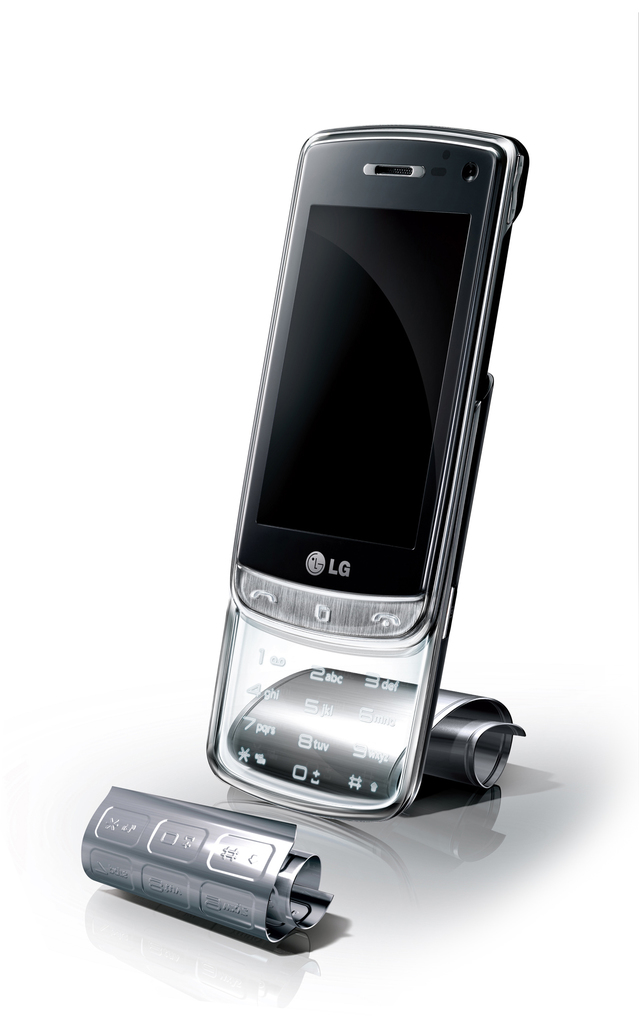Mobile-phone: (199, 129, 523, 629)
